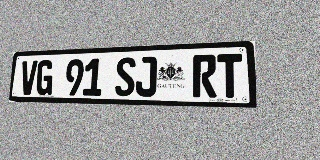1: (83, 58, 103, 96)
9: (65, 59, 84, 96)
G: (35, 60, 54, 95)
J: (135, 56, 157, 97)
R: (193, 54, 217, 98)
S: (115, 57, 136, 96)
T: (217, 53, 243, 98)
V: (20, 60, 38, 95)
